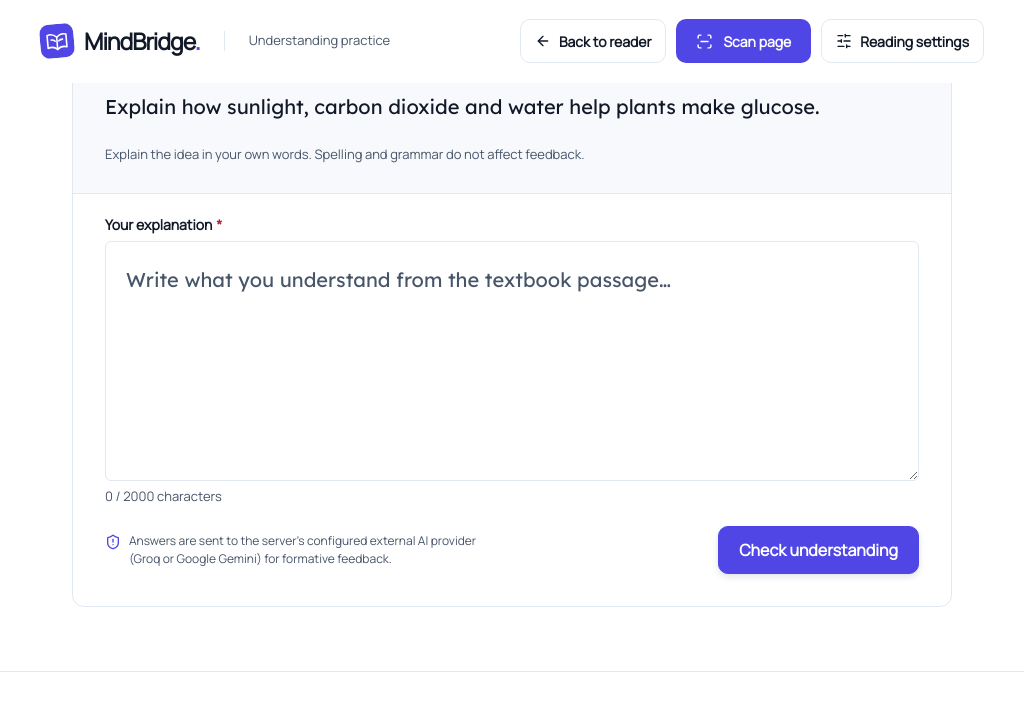
Learning loop: prepare, uncertain recovery, misconception repair, retry, and results › tracks sticky assistance when help is opened during retry and displays not_retested separately
(page scrolled)
Expected: the text "Explain how sunlight, carbon dioxide and water help plants make glucose." is shown, [105, 89, 894, 125]
Type "Plants get their food directly from sunlight." into the text box labelled "Your explanation *" at (512, 361), box [105, 241, 919, 481]
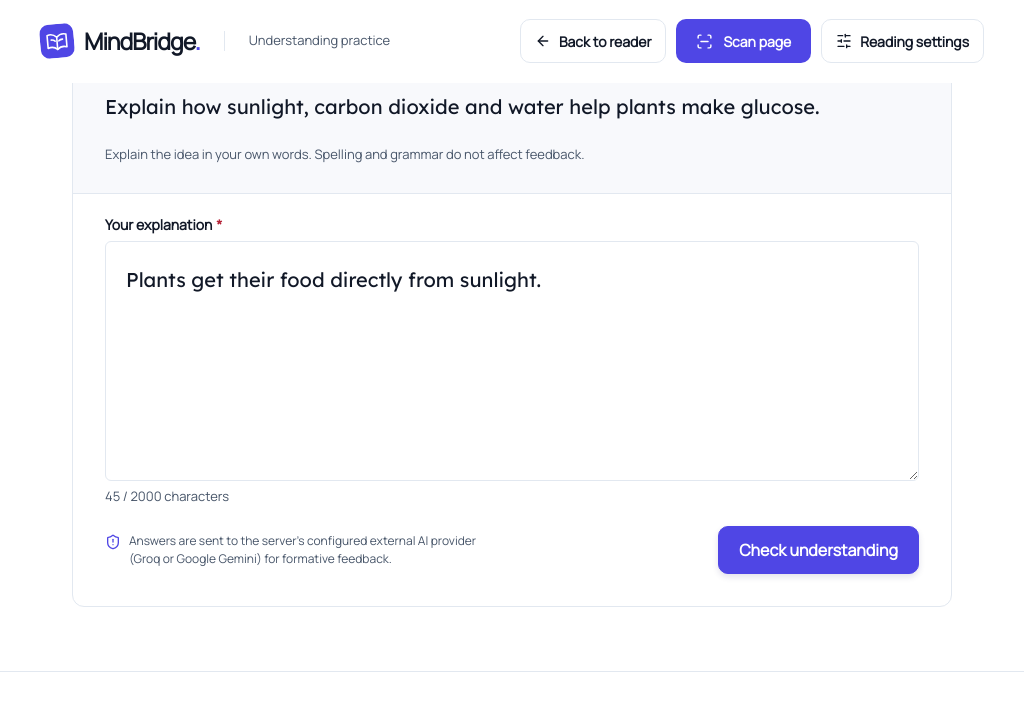
Click the button "Check understanding" at (819, 550), box [718, 526, 919, 574]
(page scrolled)
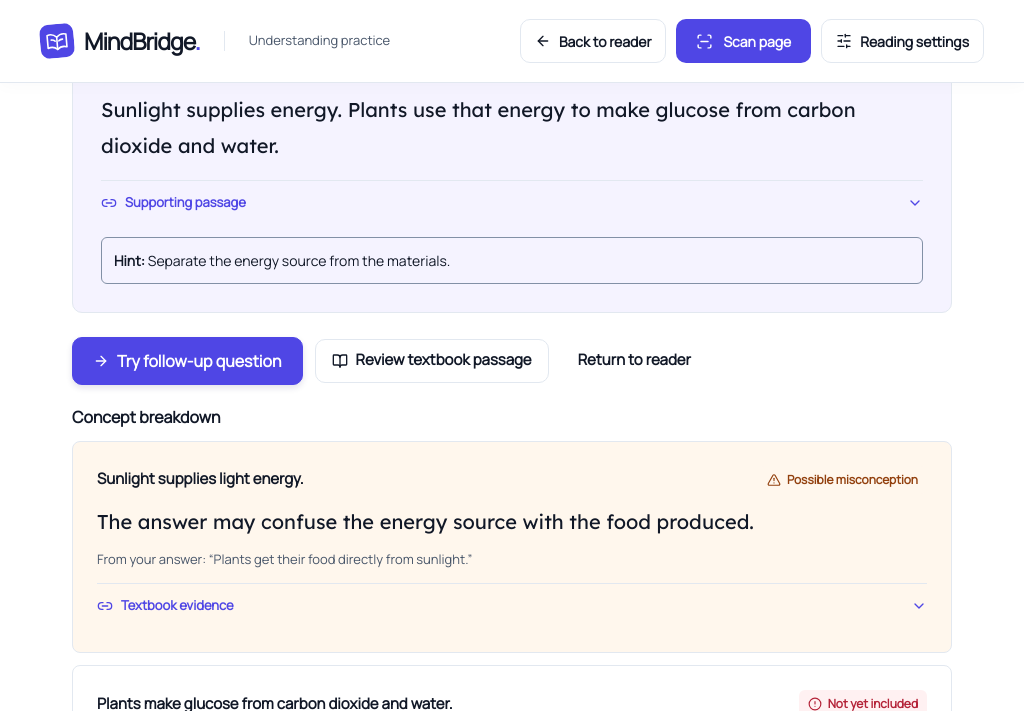
Click the button "Try follow-up question" at (187, 361), box [72, 337, 302, 385]
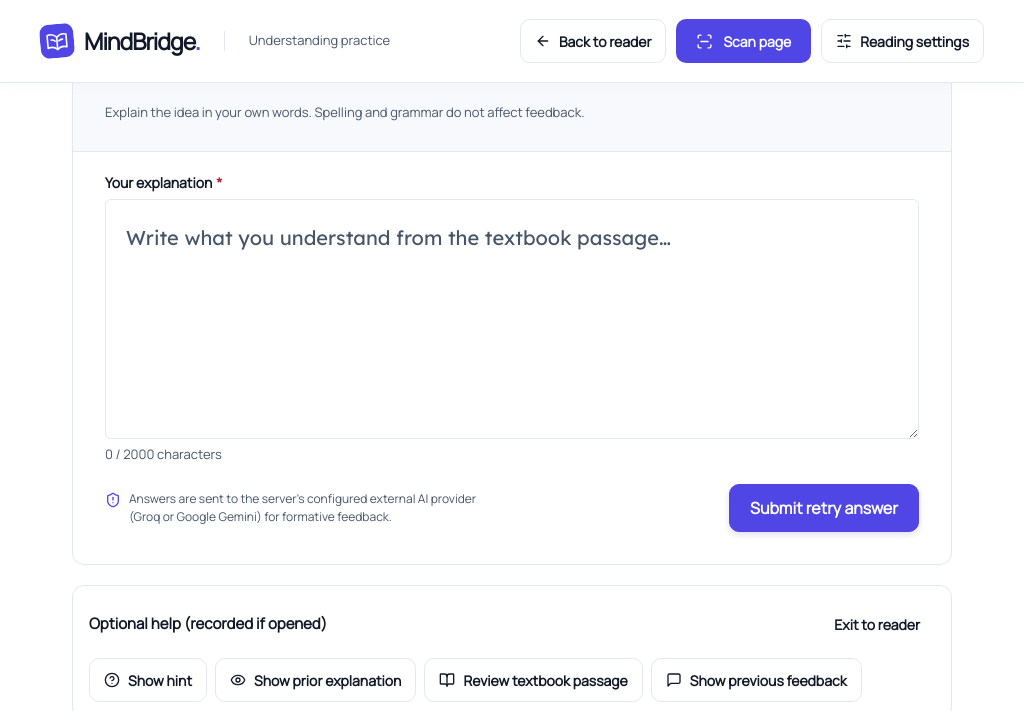
Expected: the text "What role does sunlight play?" is shown, [105, 52, 391, 77]
Click the button "Show hint" at (148, 680), box [89, 658, 207, 702]
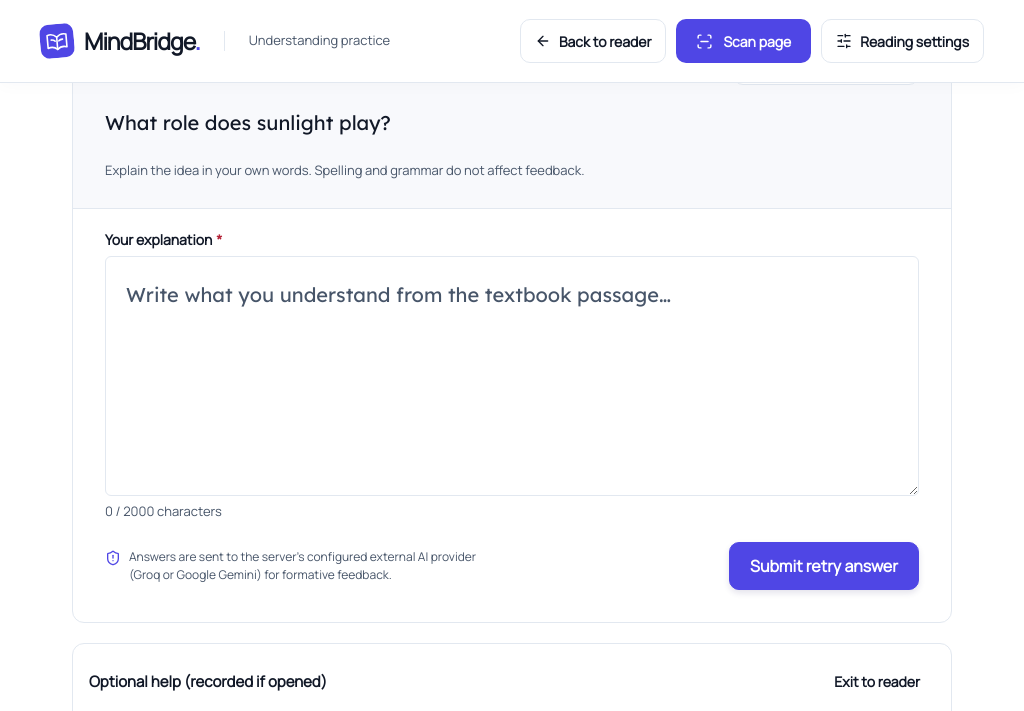
Type "Sunlight supplies energy." into the text box labelled "Your explanation *" at (512, 376), box [105, 256, 919, 496]
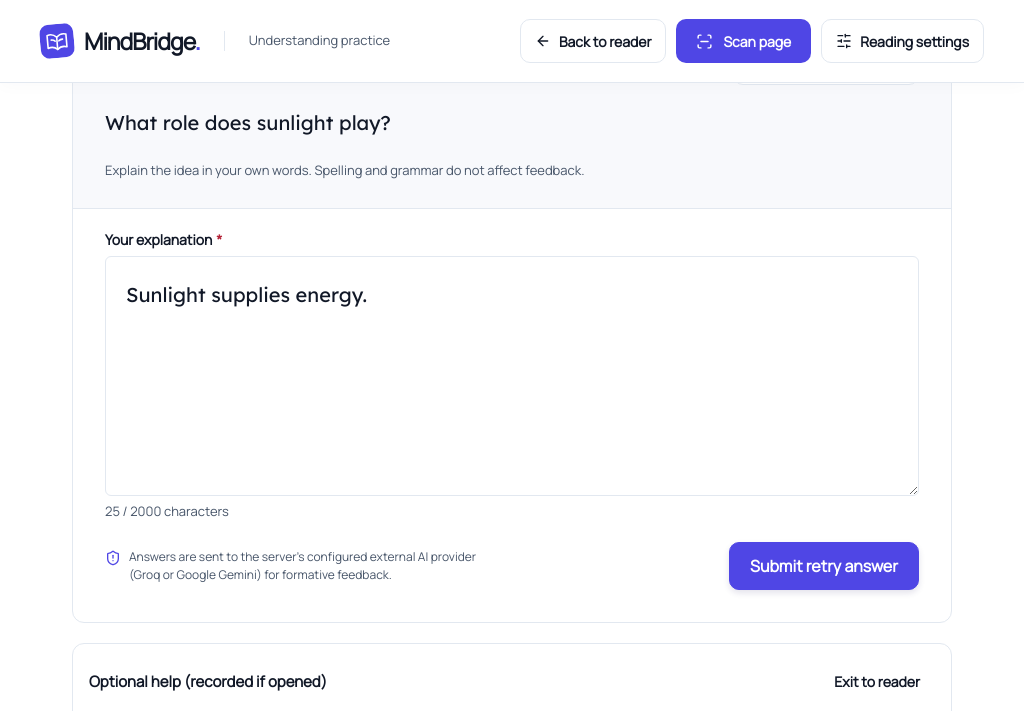
Click the button "Submit retry answer" at (824, 566), box [729, 542, 919, 590]
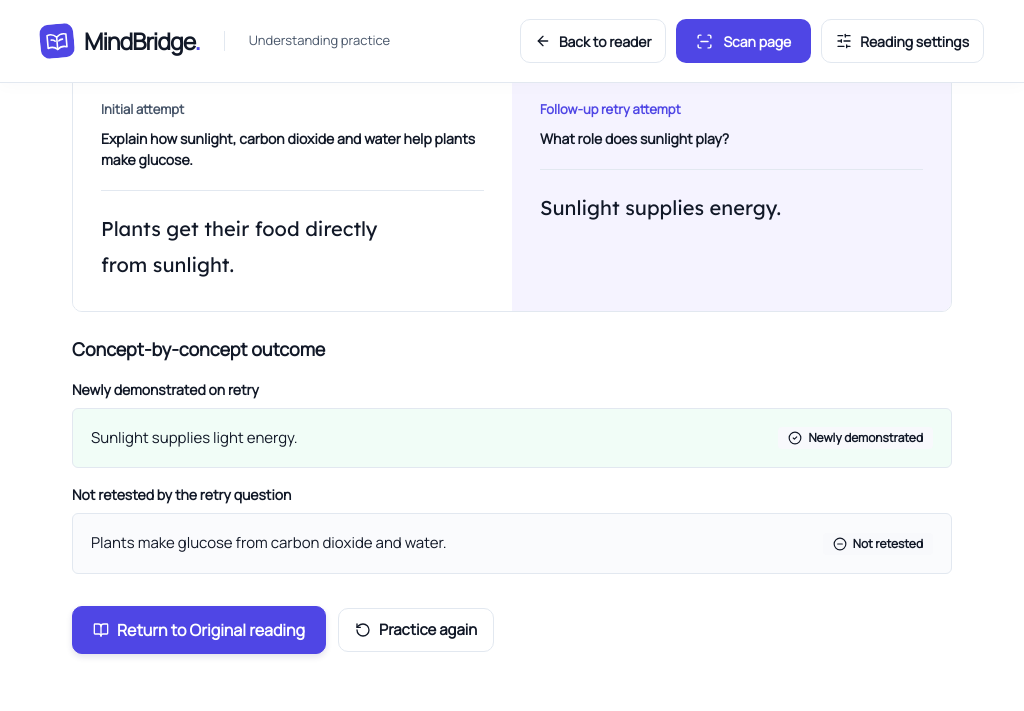
Expected: the heading "Not retested by the retry question" is shown, [72, 485, 291, 504]
